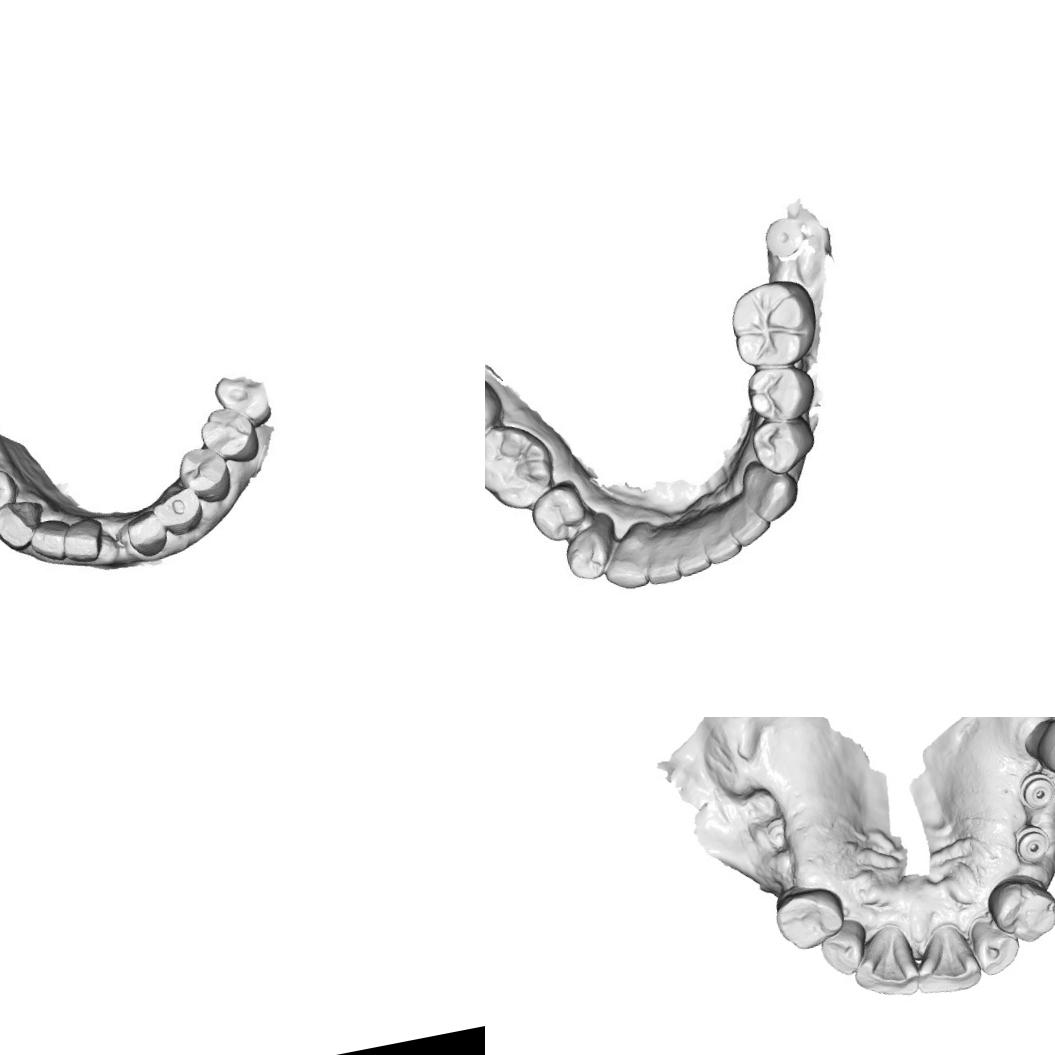canine: (594, 524, 660, 594), (740, 454, 802, 526), (152, 480, 210, 538), (0, 499, 44, 552)
implant: (755, 207, 813, 266), (1008, 819, 1053, 867), (1013, 766, 1055, 812)
incisor: (845, 921, 924, 1005), (906, 918, 984, 999), (814, 915, 877, 981), (965, 909, 1024, 978), (120, 506, 173, 561), (667, 522, 714, 580), (638, 529, 682, 589), (62, 512, 110, 566), (700, 513, 744, 567), (726, 500, 773, 548), (30, 514, 72, 557)
molar: (720, 273, 826, 374), (485, 414, 563, 517), (1019, 717, 1055, 806), (485, 361, 512, 460)
premolar: (981, 869, 1055, 949), (769, 882, 850, 954), (742, 358, 820, 428), (194, 399, 262, 469), (748, 412, 818, 480), (524, 480, 590, 548), (554, 521, 616, 587), (172, 440, 234, 505), (0, 467, 19, 517)
